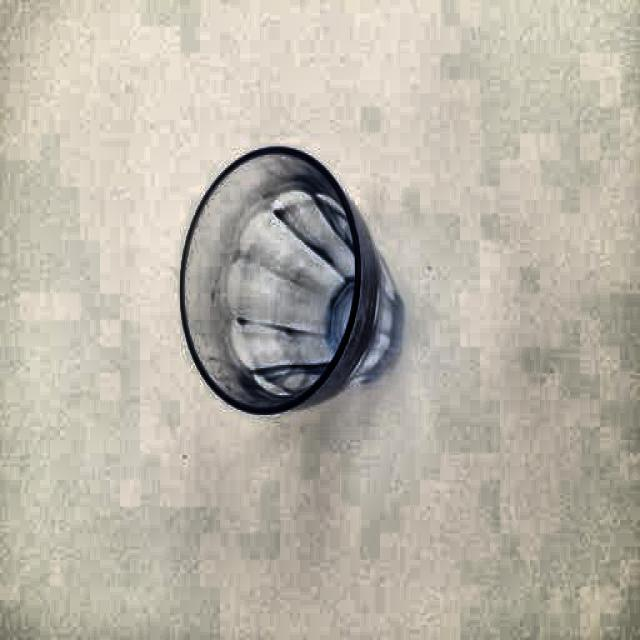glass: (178, 143, 402, 425)
